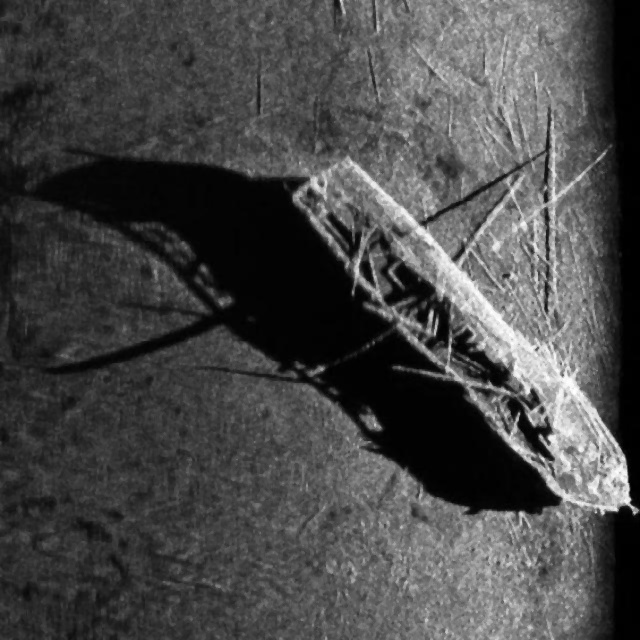Ship: (275, 133, 640, 535)
